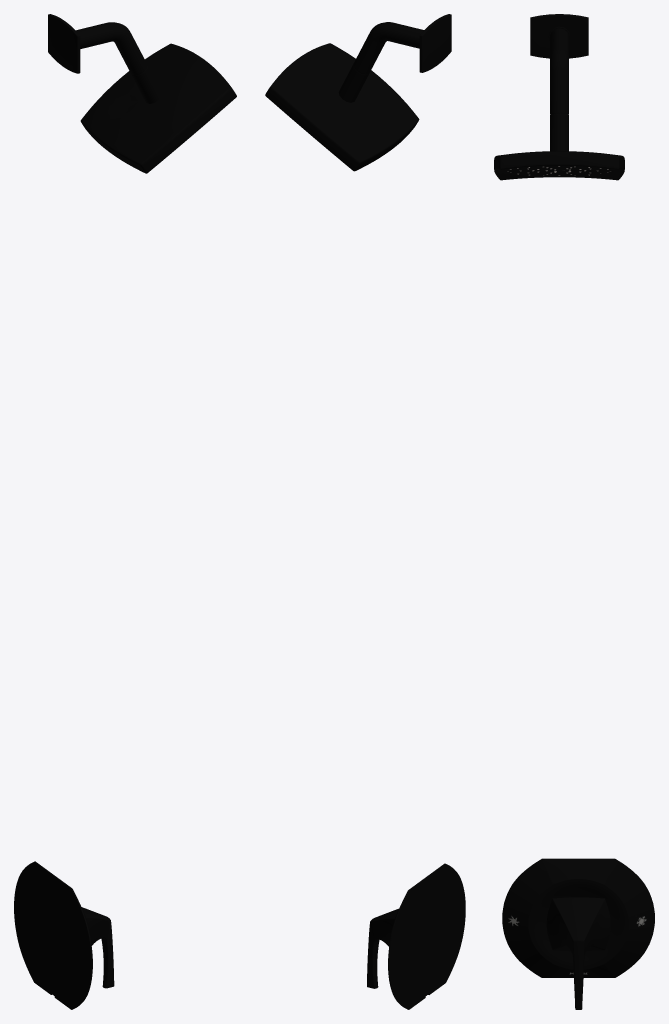
Rendered from moen-lindor-1-handle-shower-only.glb.
3 renders of one model, left to right at view 1: azimuth 30°, elevation 25°; view 2: azimuth 150°, elevation 25°; view 3: azimuth 270°, elevation 25°, orthographic.
Visible parts, largest first — view 1: 3DGeom-2, 3DGeom-1; view 2: 3DGeom-2, 3DGeom-1; view 3: 3DGeom-1, 3DGeom-2.
Boxes of the visible parts, <box> form: 3DGeom-2: <box>48,14,236,173</box>; 3DGeom-1: <box>14,861,114,1009</box>; 3DGeom-2: <box>265,14,451,171</box>; 3DGeom-1: <box>367,863,465,1009</box>; 3DGeom-1: <box>502,858,654,1009</box>; 3DGeom-2: <box>494,14,624,180</box>.
Bounding box in the file's own units: 0.1494 × 0.9561 × 0.1441.
Materials: 1 (1 with a texture image).
